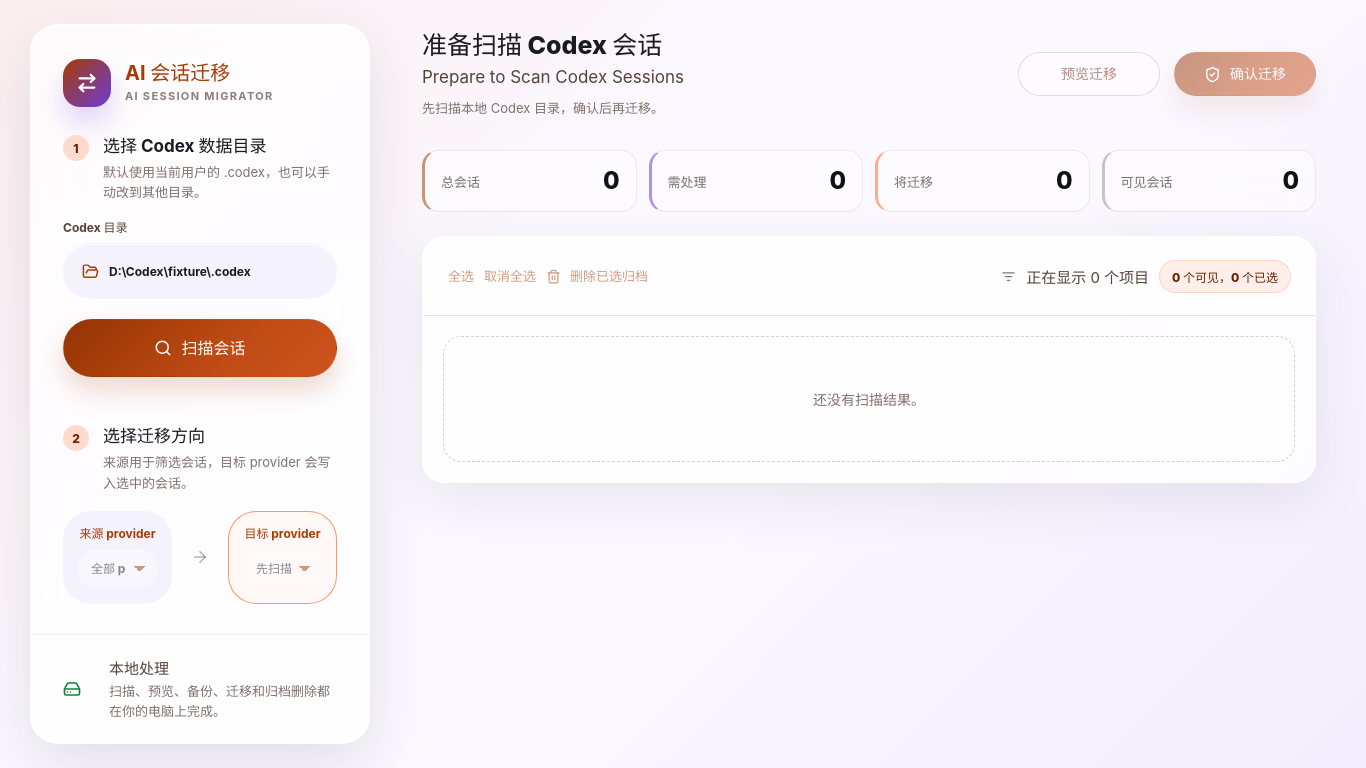
Test: archived session item can be deleted without selecting every archived row
The image size is (1366, 768).
Expected: the field showing "D:\\Codex\\fixture\\.codex" is shown, [109,264,321,279]
Click the button "扫描会话" at point(200, 348), box [63,319,337,377]
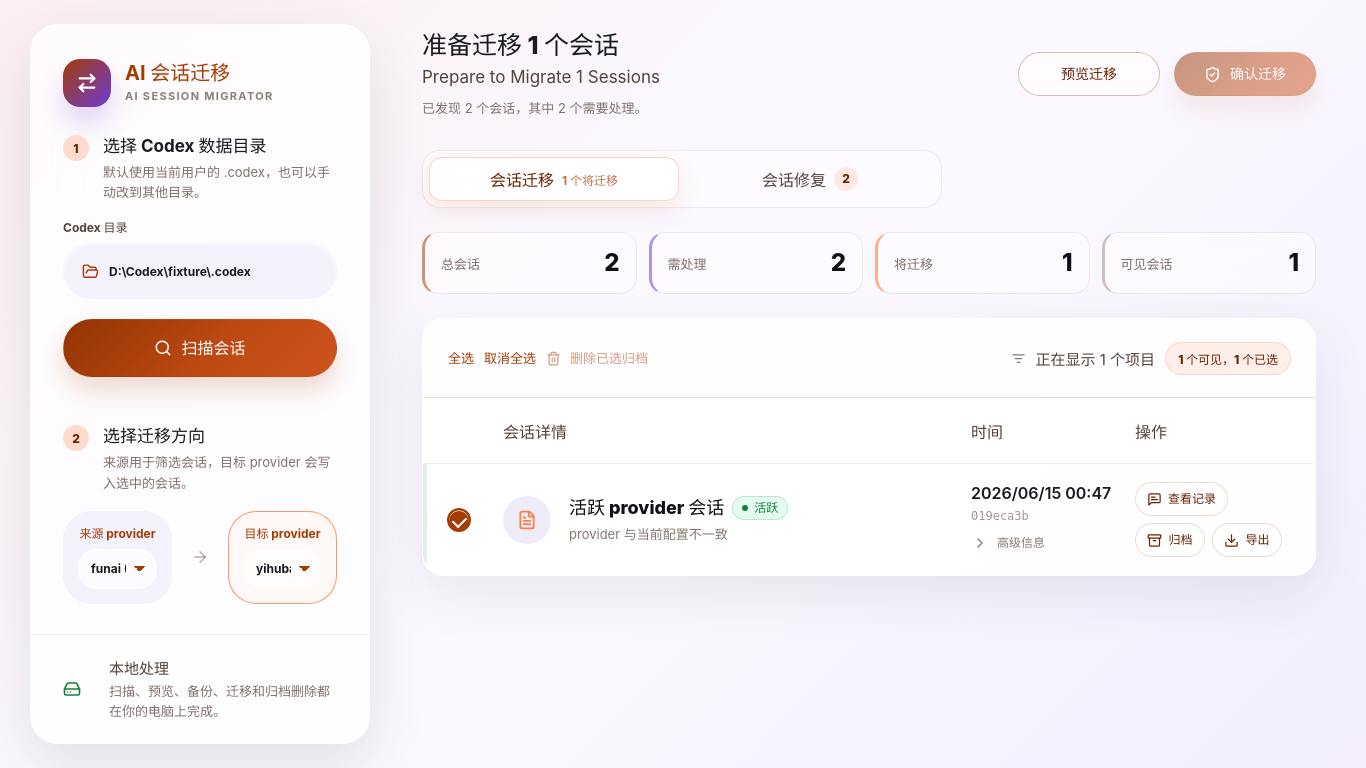
Select "全部 provider (2)" in the dropdown labelled "来源 provider" at point(118, 569), box [78,549,157,589]
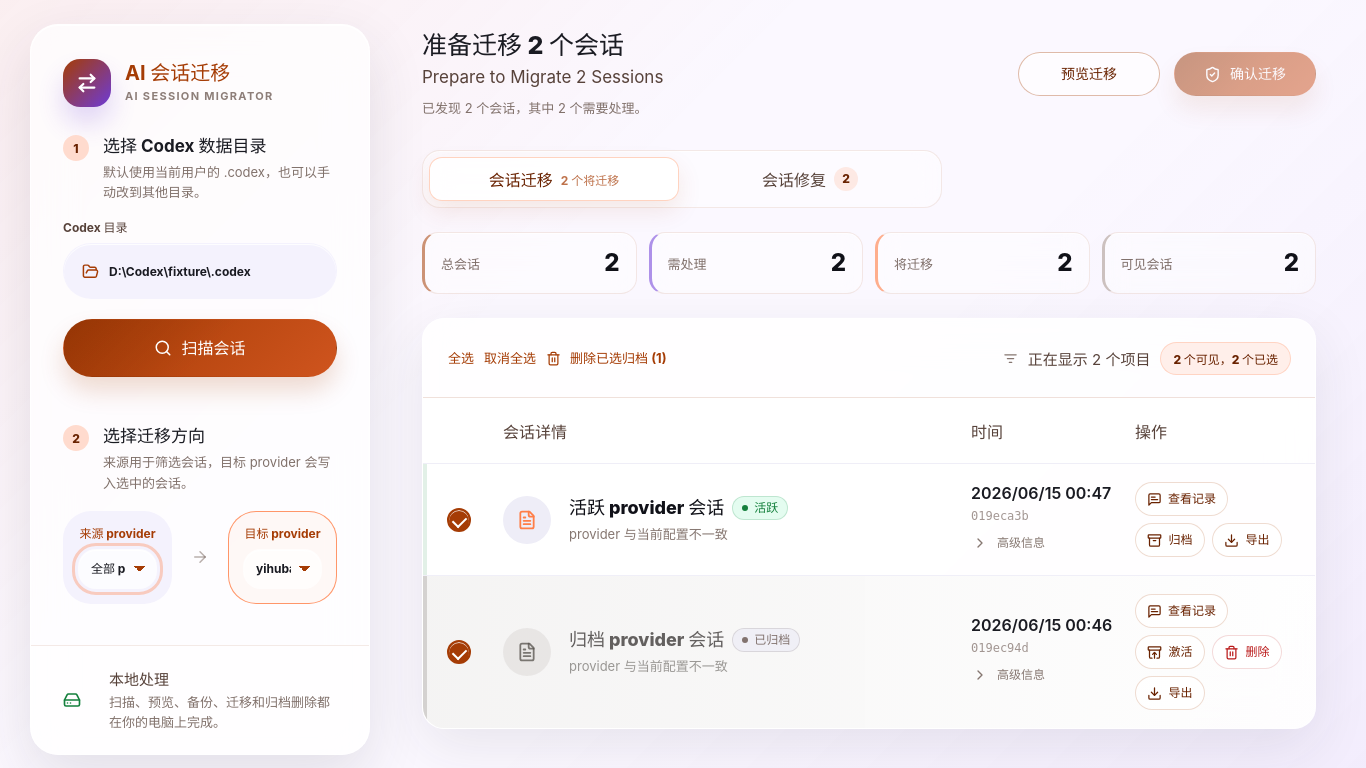
Click the button "删除" at point(1247, 652), box [1212,635,1282,669]
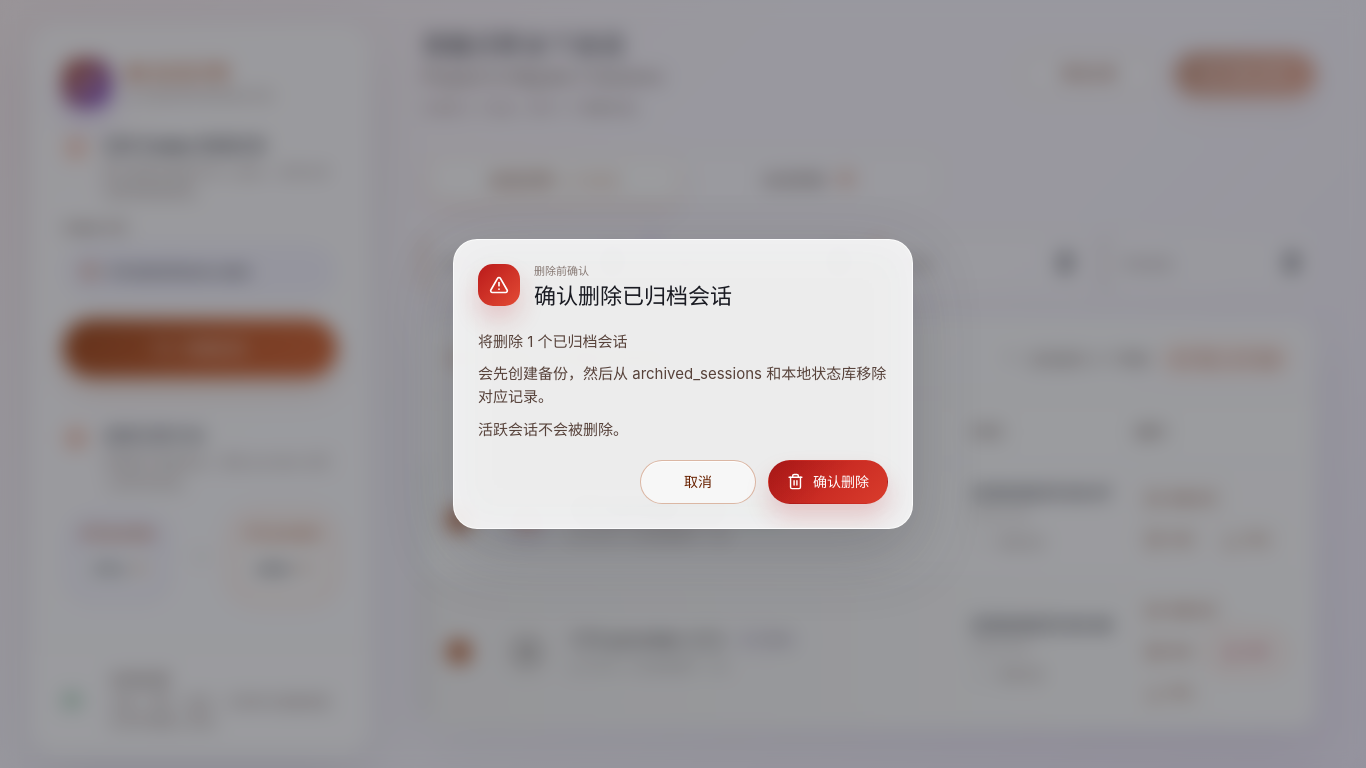
Now the dialog named "delete archived sessions" shows "将删除 1 个已归档会话", box [453,239,913,529]
Click the button with test id "confirm-delete-archived" at point(828, 482), box [768,460,888,504]
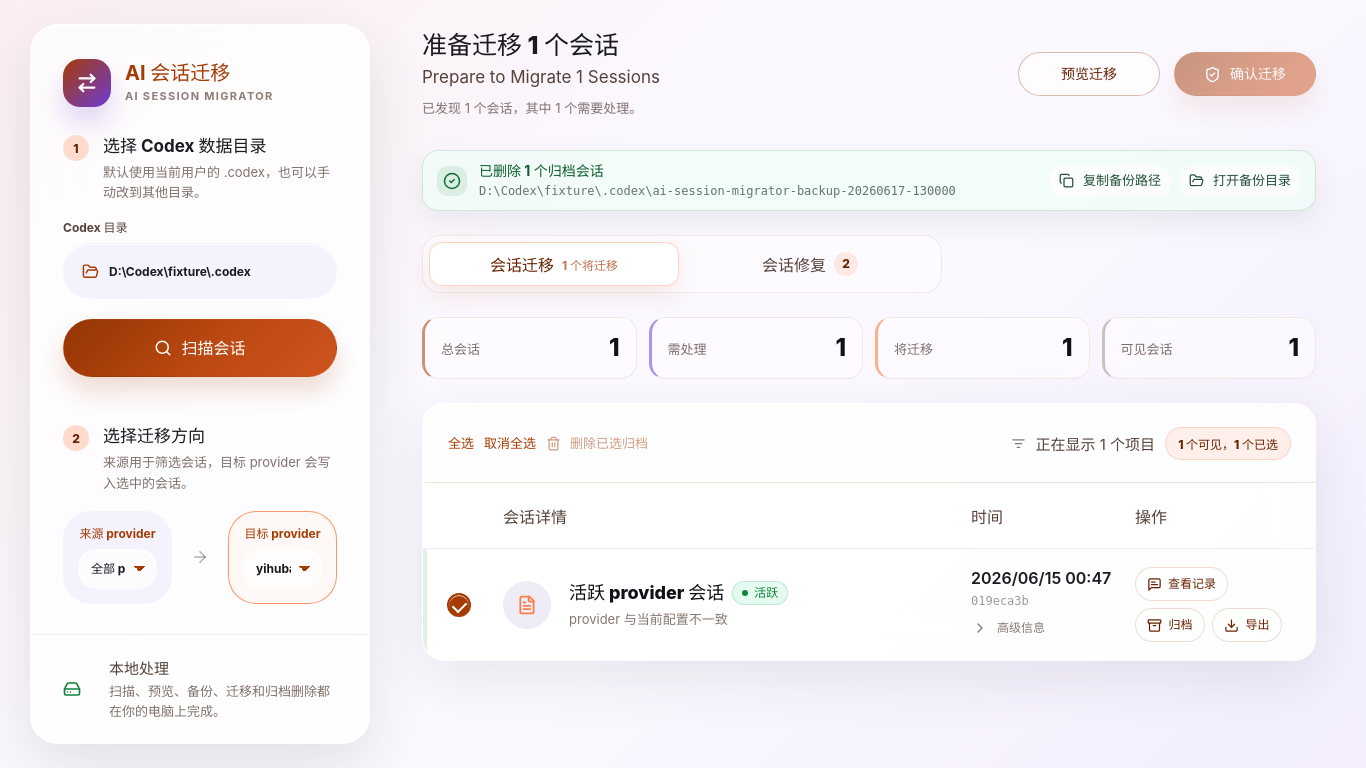
Now the text "归档 provider 会话" is gone
